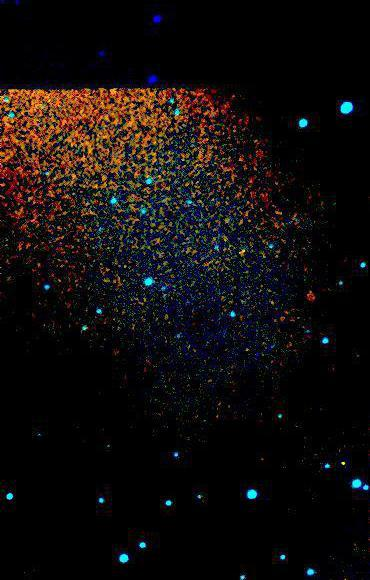star: (328, 450, 358, 480)
